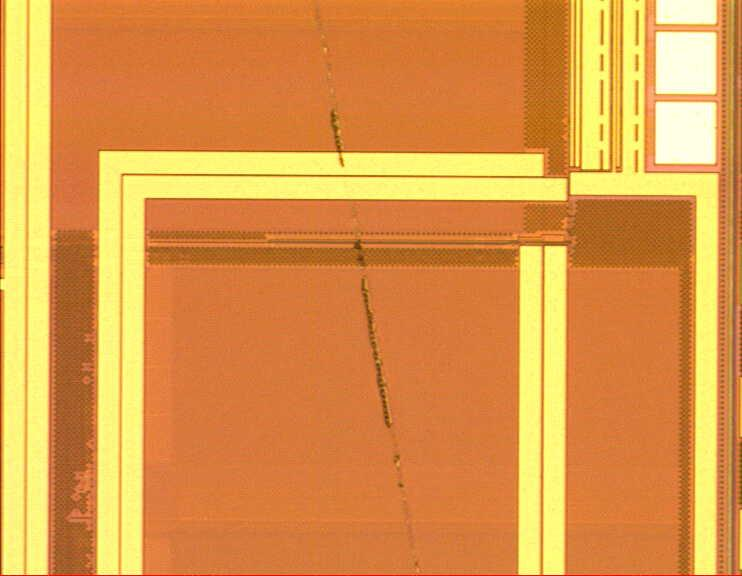SCRATCH: (304, 1, 427, 576)
